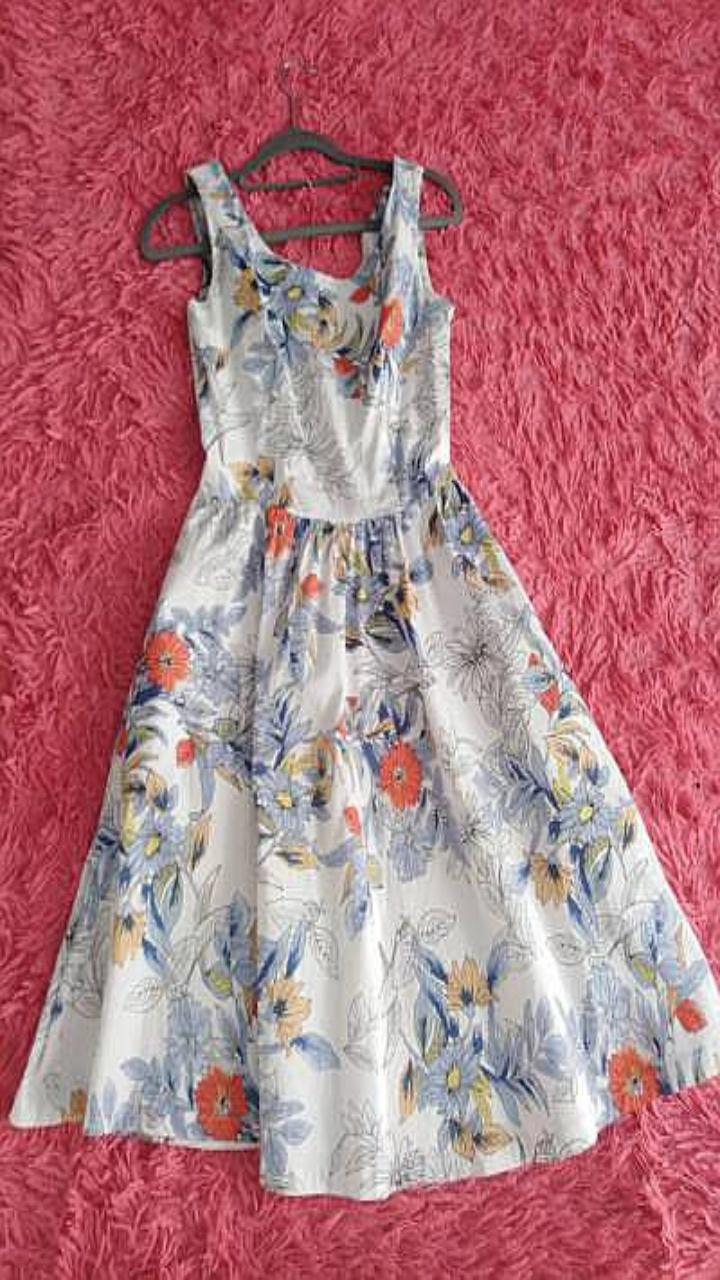Dresses: (10, 156, 719, 1198)
